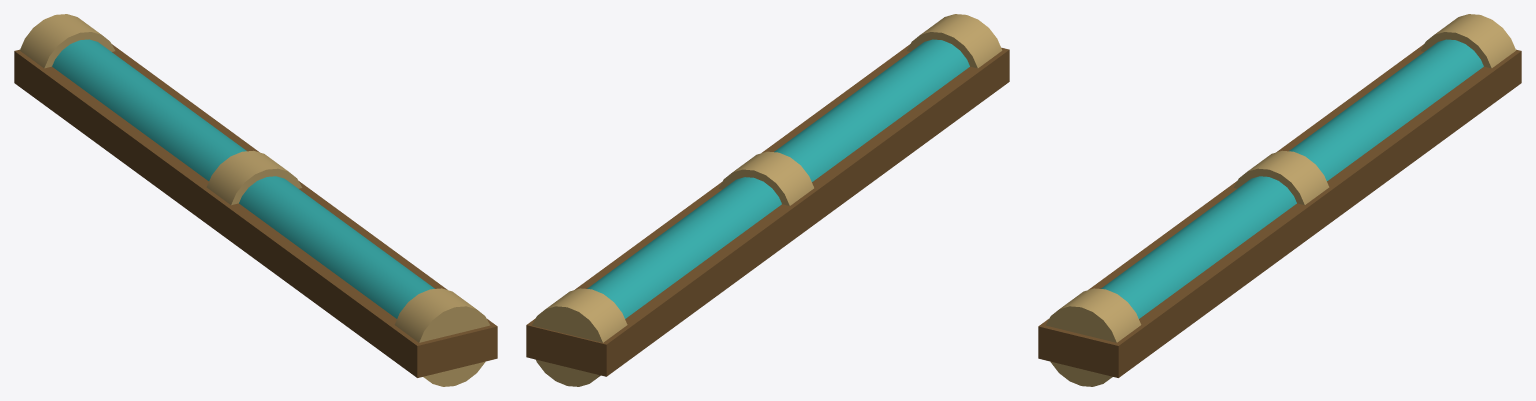
Rendered from wire 1.fbx.
3 views of the same model, side by side, from view 1: azimuth 30°, elevation 25°; view 2: azimuth 150°, elevation 25°; view 3: azimuth 330°, elevation 25° (orthographic).
Parts seen in each view (by area): view 1: pCube45, pCylinder5, pCylinder8, pCylinder6, pCylinder7; view 2: pCube45, pCylinder5, pCylinder7, pCylinder6, pCylinder8; view 3: pCube45, pCylinder5, pCylinder8, pCylinder6, pCylinder7.
Boxes of the visible parts, box(x1,y1,x2,y2) form: pCube45: box(14, 44, 497, 377); pCylinder5: box(52, 39, 434, 318); pCylinder8: box(394, 288, 490, 386); pCylinder6: box(206, 150, 302, 205); pCylinder7: box(20, 14, 115, 68); pCube45: box(526, 44, 1009, 376); pCylinder5: box(587, 39, 969, 318); pCylinder7: box(532, 288, 627, 386); pCylinder6: box(719, 151, 813, 205); pCylinder8: box(907, 14, 1002, 68); pCube45: box(1038, 44, 1521, 377); pCylinder5: box(1101, 39, 1483, 318); pCylinder8: box(1045, 288, 1141, 386); pCylinder6: box(1233, 150, 1329, 205); pCylinder7: box(1420, 14, 1515, 68).
Bounding box in the file's own units: 0.6267 × 0.5881 × 5.45.
